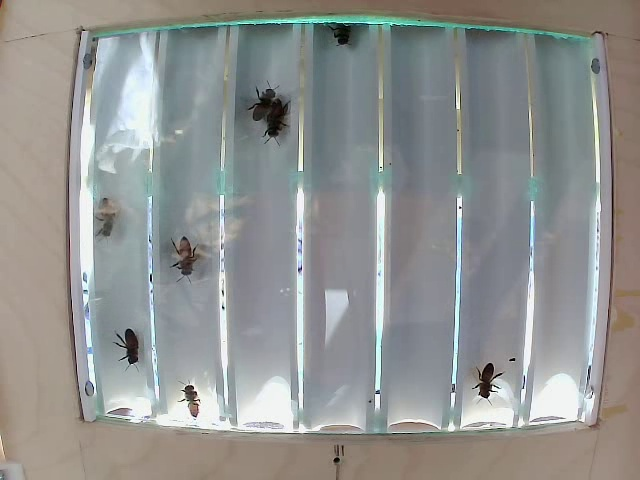bee: (79, 195, 122, 237), (160, 234, 201, 275), (469, 360, 512, 394), (325, 20, 363, 55), (111, 325, 151, 358), (265, 100, 297, 136), (179, 387, 213, 420), (251, 80, 277, 118)
